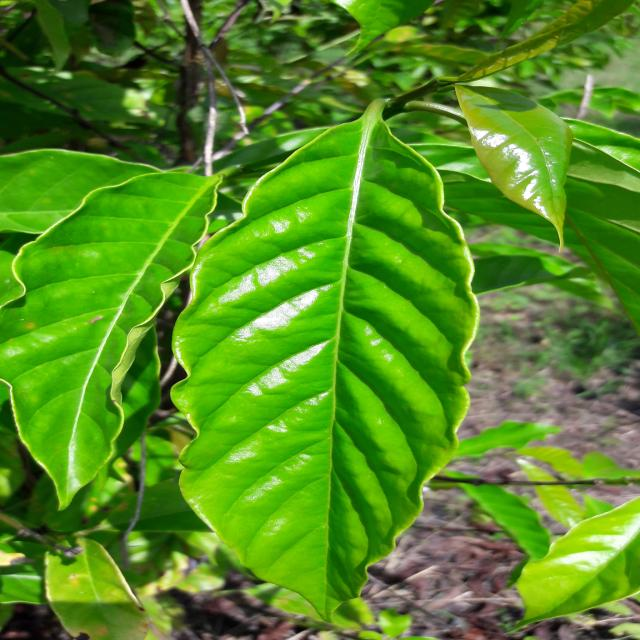Sanas: (167, 101, 481, 629)
